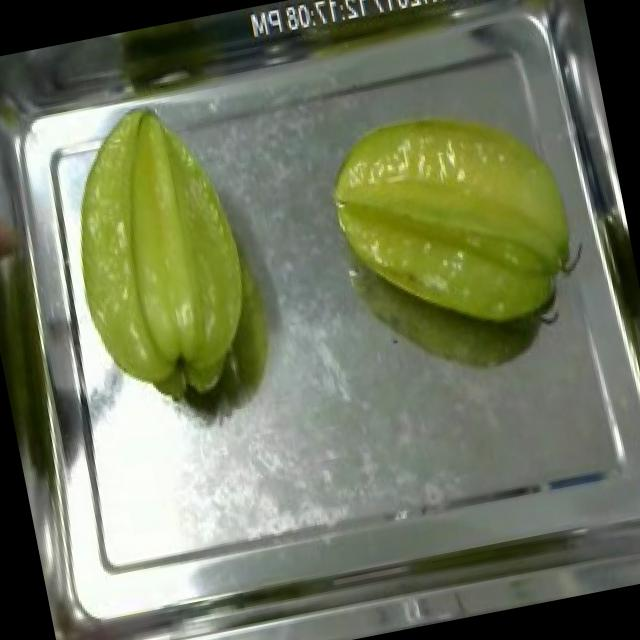fruit: (307, 77, 601, 367), (41, 84, 286, 428)
